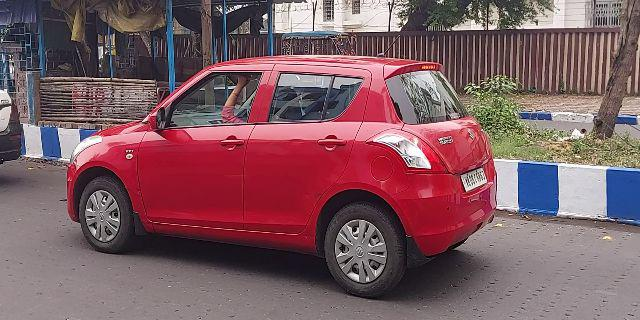Car: (65, 52, 507, 305)
